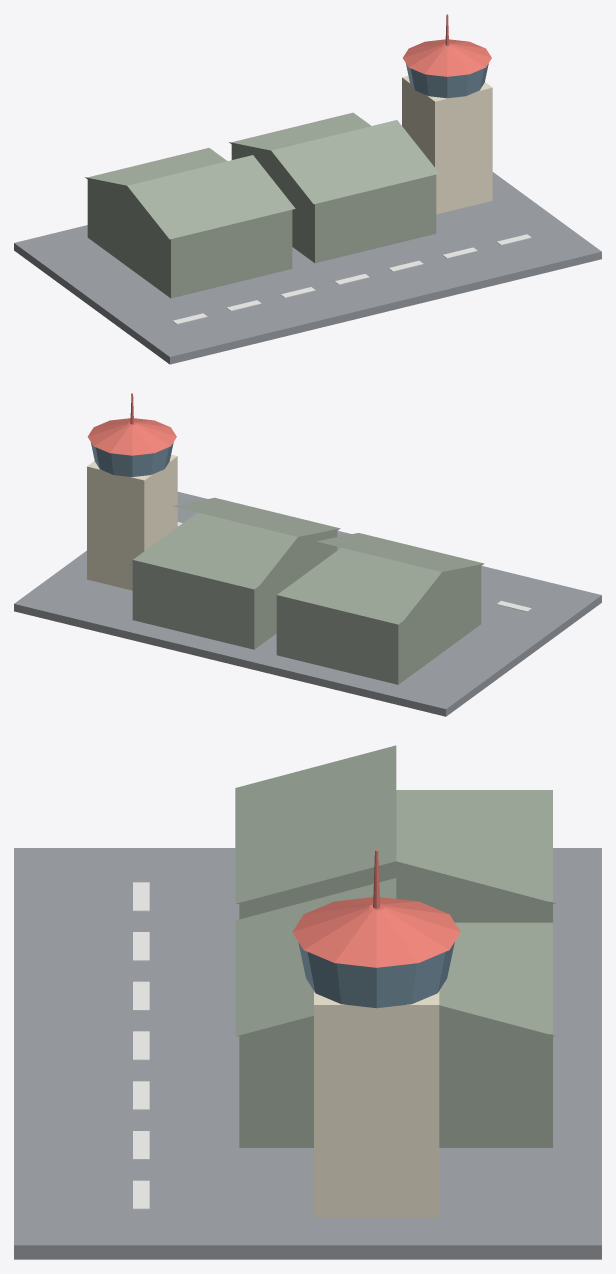
The model's file is lm_116_san_bay_cam_ly_lich_su_hangar_vom_thep_va_dai_quan_sat_doi_thong.glb.
The picture shows the model from 3 angles, top to bottom: view 1: azimuth 30°, elevation 25°; view 2: azimuth 150°, elevation 25°; view 3: azimuth 270°, elevation 25°; orthographic projection. The views are drawn at different scales.
Visible parts, largest first — view 1: lm_116_san_bay_cam_ly_lich_su_hangar_vom_thep_va_dai_quan_sa; view 2: lm_116_san_bay_cam_ly_lich_su_hangar_vom_thep_va_dai_quan_sa; view 3: lm_116_san_bay_cam_ly_lich_su_hangar_vom_thep_va_dai_quan_sa.
Part boxes in pixels (x1,y1,x2,y2): lm_116_san_bay_cam_ly_lich_su_hangar_vom_thep_va_dai_quan_sa: (14,14,601,364); lm_116_san_bay_cam_ly_lich_su_hangar_vom_thep_va_dai_quan_sa: (14,393,601,716); lm_116_san_bay_cam_ly_lich_su_hangar_vom_thep_va_dai_quan_sa: (14,745,601,1259).
Size of the model in its own units: 48 by 20 by 30.
